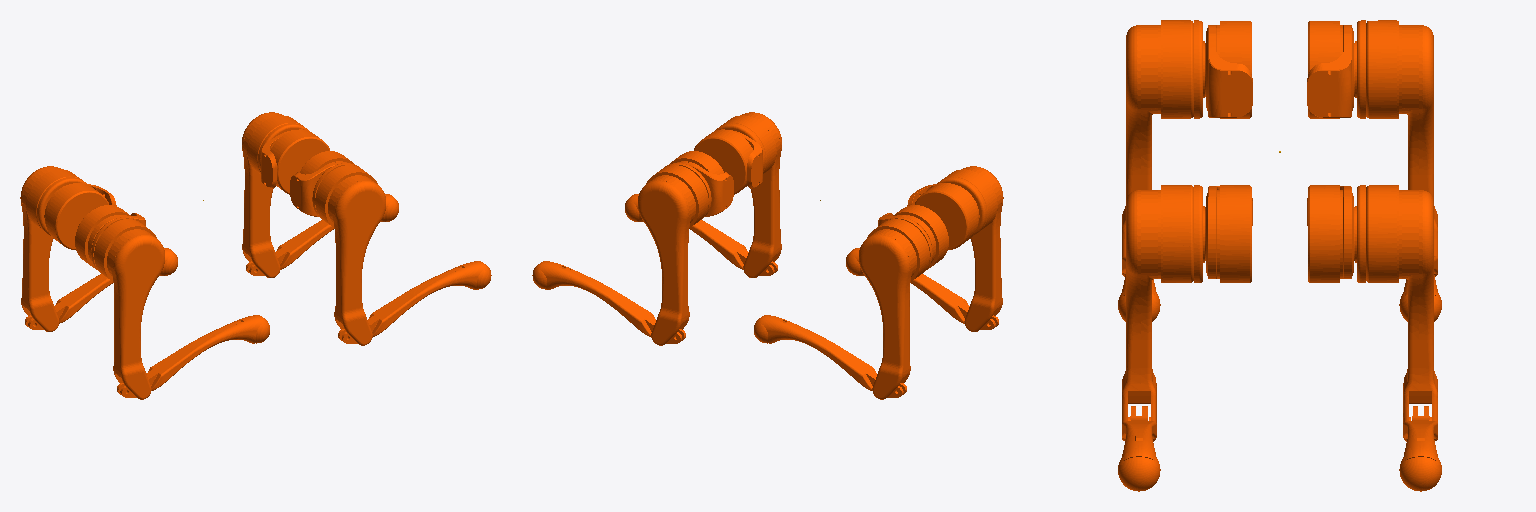
The robot description file, URDF, robot "a1_description":
<?xml version="1.0" ?>
<!-- =================================================================================== -->
<!-- |    This document was autogenerated by xacro from robot.xacro                    | -->
<!-- |    EDITING THIS FILE BY HAND IS NOT RECOMMENDED                                 | -->
<!-- =================================================================================== -->
<robot name="a1_description" xmlns:xacro="http://www.ros.org/wiki/xacro">
  <material name="black">
    <color rgba="0.0 0.0 0.0 1.0"/>
  </material>
  <material name="blue">
    <color rgba="0.0 0.0 0.8 1.0"/>
  </material>
  <material name="green">
    <color rgba="0.0 0.8 0.0 1.0"/>
  </material>
  <material name="grey">
    <color rgba="0.2 0.2 0.2 1.0"/>
  </material>
  <material name="silver">
    <color rgba="0.913725490196 0.913725490196 0.847058823529 1.0"/>
  </material>
  <material name="orange">
    <color rgba="1.0 0.423529411765 0.0392156862745 1.0"/>
  </material>
  <material name="brown">
    <color rgba="0.870588235294 0.811764705882 0.764705882353 1.0"/>
  </material>
  <material name="red">
    <color rgba="0.8 0.0 0.0 1.0"/>
  </material>
  <material name="white">
    <color rgba="1.0 1.0 1.0 1.0"/>
  </material>
  <link name="base">
    <visual>
      <origin rpy="0 0 0" xyz="0 0 0"/>
      <geometry>
        <box size="0.001 0.001 0.001"/>
      </geometry>
    </visual>
  </link>
  <joint name="floating_base" type="fixed">
    <origin rpy="0 0 0" xyz="0 0 0"/>
    <parent link="base"/>
    <child link="trunk"/>
  </joint>
  <link name="trunk">
    <visual>
      <origin rpy="0 0 0" xyz="0 0 0"/>
      <geometry>
        <mesh filename="package://a1_description/meshes/trunk.obj" scale="1 1 1"/>
      </geometry>
      <material name="orange"/>
    </visual>
    <collision>
      <origin rpy="0 0 0" xyz="0 0 0"/>
      <geometry>
        <box size="0.267 0.194 0.114"/>
      </geometry>
    </collision>
    <inertial>
      <origin rpy="0 0 0" xyz="0.012731 0.002186 0.000515"/>
      <mass value="4.713"/>
      <inertia ixx="0.01683993" ixy="8.3902e-05" ixz="0.000597679" iyy="0.056579028" iyz="2.5134e-05" izz="0.064713601"/>
    </inertial>
  </link>
  <joint name="imu_joint" type="fixed">
    <parent link="trunk"/>
    <child link="imu_link"/>
    <origin rpy="0 0 0" xyz="0 0 0"/>
  </joint>
  <link name="imu_link">
    <inertial>
      <mass value="0.001"/>
      <origin rpy="0 0 0" xyz="0 0 0"/>
      <inertia ixx="0.0001" ixy="0" ixz="0" iyy="0.0001" iyz="0" izz="0.0001"/>
    </inertial>
    <visual>
      <origin rpy="0 0 0" xyz="0 0 0"/>
      <geometry>
        <box size="0.001 0.001 0.001"/>
      </geometry>
      <material name="red"/>
    </visual>
    <collision>
      <origin rpy="0 0 0" xyz="0 0 0"/>
      <geometry>
        <box size=".001 .001 .001"/>
      </geometry>
    </collision>
  </link>
  <joint name="FR_hip_joint" type="revolute">
    <origin rpy="0 0 0" xyz="0.183 -0.047 0"/>
    <parent link="trunk"/>
    <child link="FR_hip"/>
    <axis xyz="1 0 0"/>
    <dynamics damping="0" friction="0"/>
    <limit effort="20" lower="-0.802851455917" upper="0.802851455917" velocity="52.4"/>
  </joint>
  <link name="FR_hip">
    <visual>
      <origin rpy="3.14159265359 0 0" xyz="0 0 0"/>
      <geometry>
        <mesh filename="package://a1_description/meshes/hip.obj" scale="1 1 1"/>
      </geometry>
      <material name="orange"/>
    </visual>
    <collision>
      <origin rpy="1.57079632679 0 0" xyz="0 0 0"/>
      <geometry>
        <cylinder length="0.04" radius="0.046"/>
      </geometry>
    </collision>
    <inertial>
      <origin rpy="0 0 0" xyz="-0.003311 -0.000635 3.1e-05"/>
      <mass value="0.696"/>
      <inertia ixx="0.000469246" ixy="9.409e-06" ixz="-3.42e-07" iyy="0.00080749" iyz="4.66e-07" izz="0.000552929"/>
    </inertial>
  </link>
  <joint name="FR_hip_fixed" type="fixed">
    <origin rpy="0 0 0" xyz="0 -0.081 0"/>
    <parent link="FR_hip"/>
    <child link="FR_thigh_shoulder"/>
  </joint>
  <!-- this link is only for collision -->
  <link name="FR_thigh_shoulder">
    <collision>
      <origin rpy="1.57079632679 0 0" xyz="0 0 0"/>
      <geometry>
        <cylinder length="0.032" radius="0.041"/>
      </geometry>
    </collision>
  </link>
  <joint name="FR_thigh_joint" type="revolute">
    <origin rpy="0 0 0" xyz="0 -0.08505 0"/>
    <parent link="FR_hip"/>
    <child link="FR_thigh"/>
    <axis xyz="0 1 0"/>
    <dynamics damping="0" friction="0"/>
    <limit effort="55" lower="-1.0471975512" upper="4.18879020479" velocity="28.6"/>
  </joint>
  <link name="FR_thigh">
    <visual>
      <origin rpy="0 0 0" xyz="0 0 0"/>
      <geometry>
        <mesh filename="package://a1_description/meshes/thigh_mirror.obj" scale="1 1 1"/>
      </geometry>
      <material name="orange"/>
    </visual>
    <collision>
      <origin rpy="0 1.57079632679 0" xyz="0 0 -0.1"/>
      <geometry>
        <box size="0.2 0.0245 0.034"/>
      </geometry>
    </collision>
    <inertial>
      <origin rpy="0 0 0" xyz="-0.003237 0.022327 -0.027326"/>
      <mass value="1.013"/>
      <inertia ixx="0.005529065" ixy="-4.825e-06" ixz="0.000343869" iyy="0.005139339" iyz="-2.2448e-05" izz="0.001367788"/>
    </inertial>
  </link>
  <joint name="FR_calf_joint" type="revolute">
    <origin rpy="0 0 0" xyz="0 0 -0.2"/>
    <parent link="FR_thigh"/>
    <child link="FR_calf"/>
    <axis xyz="0 1 0"/>
    <dynamics damping="0" friction="0"/>
    <limit effort="55" lower="-2.69653369433" upper="-0.916297857297" velocity="28.6"/>
  </joint>
  <link name="FR_calf">
    <visual>
      <origin rpy="0 0 0" xyz="0 0 0"/>
      <geometry>
        <mesh filename="package://a1_description/meshes/calf.obj" scale="1 1 1"/>
      </geometry>
      <material name="orange"/>
    </visual>
    <collision>
      <origin rpy="0 1.57079632679 0" xyz="0 0 -0.1"/>
      <geometry>
        <box size="0.2 0.016 0.016"/>
      </geometry>
    </collision>
    <inertial>
      <origin rpy="0 0 0" xyz="0.006435 0.0 -0.107388"/>
      <mass value="0.166"/>
      <inertia ixx="0.002997972" ixy="0.0" ixz="-0.000141163" iyy="0.003014022" iyz="0.0" izz="3.2426e-05"/>
    </inertial>
  </link>
  <joint name="FR_foot_fixed" type="fixed">
    <origin rpy="0 0 0" xyz="0 0 -0.2"/>
    <parent link="FR_calf"/>
    <child link="FR_foot"/>
  </joint>
  <link name="FR_foot">
    <visual>
      <origin rpy="0 0 0" xyz="0 0 0"/>
      <geometry>
        <sphere radius="0.01"/>
      </geometry>
      <material name="orange"/>
    </visual>
    <collision>
      <origin rpy="0 0 0" xyz="0 0 0"/>
      <geometry>
        <sphere radius="0.02"/>
      </geometry>
    </collision>
    <inertial>
      <mass value="0.06"/>
      <inertia ixx="9.6e-06" ixy="0.0" ixz="0.0" iyy="9.6e-06" iyz="0.0" izz="9.6e-06"/>
    </inertial>
  </link>
  <transmission name="FR_hip_tran">
    <type>transmission_interface/SimpleTransmission</type>
    <joint name="FR_hip_joint">
      <hardwareInterface>hardware_interface/EffortJointInterface</hardwareInterface>
    </joint>
    <actuator name="FR_hip_motor">
      <hardwareInterface>hardware_interface/EffortJointInterface</hardwareInterface>
      <mechanicalReduction>1</mechanicalReduction>
    </actuator>
  </transmission>
  <transmission name="FR_thigh_tran">
    <type>transmission_interface/SimpleTransmission</type>
    <joint name="FR_thigh_joint">
      <hardwareInterface>hardware_interface/EffortJointInterface</hardwareInterface>
    </joint>
    <actuator name="FR_thigh_motor">
      <hardwareInterface>hardware_interface/EffortJointInterface</hardwareInterface>
      <mechanicalReduction>1</mechanicalReduction>
    </actuator>
  </transmission>
  <transmission name="FR_calf_tran">
    <type>transmission_interface/SimpleTransmission</type>
    <joint name="FR_calf_joint">
      <hardwareInterface>hardware_interface/EffortJointInterface</hardwareInterface>
    </joint>
    <actuator name="FR_calf_motor">
      <hardwareInterface>hardware_interface/EffortJointInterface</hardwareInterface>
      <mechanicalReduction>1</mechanicalReduction>
    </actuator>
  </transmission>
  <joint name="FL_hip_joint" type="revolute">
    <origin rpy="0 0 0" xyz="0.183 0.047 0"/>
    <parent link="trunk"/>
    <child link="FL_hip"/>
    <axis xyz="1 0 0"/>
    <dynamics damping="0" friction="0"/>
    <limit effort="20" lower="-0.802851455917" upper="0.802851455917" velocity="52.4"/>
  </joint>
  <link name="FL_hip">
    <visual>
      <origin rpy="0 0 0" xyz="0 0 0"/>
      <geometry>
        <mesh filename="package://a1_description/meshes/hip.obj" scale="1 1 1"/>
      </geometry>
      <material name="orange"/>
    </visual>
    <collision>
      <origin rpy="1.57079632679 0 0" xyz="0 0 0"/>
      <geometry>
        <cylinder length="0.04" radius="0.046"/>
      </geometry>
    </collision>
    <inertial>
      <origin rpy="0 0 0" xyz="-0.003311 0.000635 3.1e-05"/>
      <mass value="0.696"/>
      <inertia ixx="0.000469246" ixy="-9.409e-06" ixz="-3.42e-07" iyy="0.00080749" iyz="-4.66e-07" izz="0.000552929"/>
    </inertial>
  </link>
  <joint name="FL_hip_fixed" type="fixed">
    <origin rpy="0 0 0" xyz="0 0.081 0"/>
    <parent link="FL_hip"/>
    <child link="FL_thigh_shoulder"/>
  </joint>
  <!-- this link is only for collision -->
  <link name="FL_thigh_shoulder">
    <collision>
      <origin rpy="1.57079632679 0 0" xyz="0 0 0"/>
      <geometry>
        <cylinder length="0.032" radius="0.041"/>
      </geometry>
    </collision>
  </link>
  <joint name="FL_thigh_joint" type="revolute">
    <origin rpy="0 0 0" xyz="0 0.08505 0"/>
    <parent link="FL_hip"/>
    <child link="FL_thigh"/>
    <axis xyz="0 1 0"/>
    <dynamics damping="0" friction="0"/>
    <limit effort="55" lower="-1.0471975512" upper="4.18879020479" velocity="28.6"/>
  </joint>
  <link name="FL_thigh">
    <visual>
      <origin rpy="0 0 0" xyz="0 0 0"/>
      <geometry>
        <mesh filename="package://a1_description/meshes/thigh.obj" scale="1 1 1"/>
      </geometry>
      <material name="orange"/>
    </visual>
    <collision>
      <origin rpy="0 1.57079632679 0" xyz="0 0 -0.1"/>
      <geometry>
        <box size="0.2 0.0245 0.034"/>
      </geometry>
    </collision>
    <inertial>
      <origin rpy="0 0 0" xyz="-0.003237 -0.022327 -0.027326"/>
      <mass value="1.013"/>
      <inertia ixx="0.005529065" ixy="4.825e-06" ixz="0.000343869" iyy="0.005139339" iyz="2.2448e-05" izz="0.001367788"/>
    </inertial>
  </link>
  <joint name="FL_calf_joint" type="revolute">
    <origin rpy="0 0 0" xyz="0 0 -0.2"/>
    <parent link="FL_thigh"/>
    <child link="FL_calf"/>
    <axis xyz="0 1 0"/>
    <dynamics damping="0" friction="0"/>
    <limit effort="55" lower="-2.69653369433" upper="-0.916297857297" velocity="28.6"/>
  </joint>
  <link name="FL_calf">
    <visual>
      <origin rpy="0 0 0" xyz="0 0 0"/>
      <geometry>
        <mesh filename="package://a1_description/meshes/calf.obj" scale="1 1 1"/>
      </geometry>
      <material name="orange"/>
    </visual>
    <collision>
      <origin rpy="0 1.57079632679 0" xyz="0 0 -0.1"/>
      <geometry>
        <box size="0.2 0.016 0.016"/>
      </geometry>
    </collision>
    <inertial>
      <origin rpy="0 0 0" xyz="0.006435 0.0 -0.107388"/>
      <mass value="0.166"/>
      <inertia ixx="0.002997972" ixy="0.0" ixz="-0.000141163" iyy="0.003014022" iyz="0.0" izz="3.2426e-05"/>
    </inertial>
  </link>
  <joint name="FL_foot_fixed" type="fixed">
    <origin rpy="0 0 0" xyz="0 0 -0.2"/>
    <parent link="FL_calf"/>
    <child link="FL_foot"/>
  </joint>
  <link name="FL_foot">
    <visual>
      <origin rpy="0 0 0" xyz="0 0 0"/>
      <geometry>
        <sphere radius="0.01"/>
      </geometry>
      <material name="orange"/>
    </visual>
    <collision>
      <origin rpy="0 0 0" xyz="0 0 0"/>
      <geometry>
        <sphere radius="0.02"/>
      </geometry>
    </collision>
    <inertial>
      <mass value="0.06"/>
      <inertia ixx="9.6e-06" ixy="0.0" ixz="0.0" iyy="9.6e-06" iyz="0.0" izz="9.6e-06"/>
    </inertial>
  </link>
  <transmission name="FL_hip_tran">
    <type>transmission_interface/SimpleTransmission</type>
    <joint name="FL_hip_joint">
      <hardwareInterface>hardware_interface/EffortJointInterface</hardwareInterface>
    </joint>
    <actuator name="FL_hip_motor">
      <hardwareInterface>hardware_interface/EffortJointInterface</hardwareInterface>
      <mechanicalReduction>1</mechanicalReduction>
    </actuator>
  </transmission>
  <transmission name="FL_thigh_tran">
    <type>transmission_interface/SimpleTransmission</type>
    <joint name="FL_thigh_joint">
      <hardwareInterface>hardware_interface/EffortJointInterface</hardwareInterface>
    </joint>
    <actuator name="FL_thigh_motor">
      <hardwareInterface>hardware_interface/EffortJointInterface</hardwareInterface>
      <mechanicalReduction>1</mechanicalReduction>
    </actuator>
  </transmission>
  <transmission name="FL_calf_tran">
    <type>transmission_interface/SimpleTransmission</type>
    <joint name="FL_calf_joint">
      <hardwareInterface>hardware_interface/EffortJointInterface</hardwareInterface>
    </joint>
    <actuator name="FL_calf_motor">
      <hardwareInterface>hardware_interface/EffortJointInterface</hardwareInterface>
      <mechanicalReduction>1</mechanicalReduction>
    </actuator>
  </transmission>
  <joint name="RR_hip_joint" type="revolute">
    <origin rpy="0 0 0" xyz="-0.183 -0.047 0"/>
    <parent link="trunk"/>
    <child link="RR_hip"/>
    <axis xyz="1 0 0"/>
    <dynamics damping="0" friction="0"/>
    <limit effort="20" lower="-0.802851455917" upper="0.802851455917" velocity="52.4"/>
  </joint>
  <link name="RR_hip">
    <visual>
      <origin rpy="3.14159265359 3.14159265359 0" xyz="0 0 0"/>
      <geometry>
        <mesh filename="package://a1_description/meshes/hip.obj" scale="1 1 1"/>
      </geometry>
      <material name="orange"/>
    </visual>
    <collision>
      <origin rpy="1.57079632679 0 0" xyz="0 0 0"/>
      <geometry>
        <cylinder length="0.04" radius="0.046"/>
      </geometry>
    </collision>
    <inertial>
      <origin rpy="0 0 0" xyz="0.003311 -0.000635 3.1e-05"/>
      <mass value="0.696"/>
      <inertia ixx="0.000469246" ixy="-9.409e-06" ixz="3.42e-07" iyy="0.00080749" iyz="4.66e-07" izz="0.000552929"/>
    </inertial>
  </link>
  <joint name="RR_hip_fixed" type="fixed">
    <origin rpy="0 0 0" xyz="0 -0.081 0"/>
    <parent link="RR_hip"/>
    <child link="RR_thigh_shoulder"/>
  </joint>
  <!-- this link is only for collision -->
  <link name="RR_thigh_shoulder">
    <collision>
      <origin rpy="1.57079632679 0 0" xyz="0 0 0"/>
      <geometry>
        <cylinder length="0.032" radius="0.041"/>
      </geometry>
    </collision>
  </link>
  <joint name="RR_thigh_joint" type="revolute">
    <origin rpy="0 0 0" xyz="0 -0.08505 0"/>
    <parent link="RR_hip"/>
    <child link="RR_thigh"/>
    <axis xyz="0 1 0"/>
    <dynamics damping="0" friction="0"/>
    <limit effort="55" lower="-1.0471975512" upper="4.18879020479" velocity="28.6"/>
  </joint>
  <link name="RR_thigh">
    <visual>
      <origin rpy="0 0 0" xyz="0 0 0"/>
      <geometry>
        <mesh filename="package://a1_description/meshes/thigh_mirror.obj" scale="1 1 1"/>
      </geometry>
      <material name="orange"/>
    </visual>
    <collision>
      <origin rpy="0 1.57079632679 0" xyz="0 0 -0.1"/>
      <geometry>
        <box size="0.2 0.0245 0.034"/>
      </geometry>
    </collision>
    <inertial>
      <origin rpy="0 0 0" xyz="-0.003237 0.022327 -0.027326"/>
      <mass value="1.013"/>
      <inertia ixx="0.005529065" ixy="-4.825e-06" ixz="0.000343869" iyy="0.005139339" iyz="-2.2448e-05" izz="0.001367788"/>
    </inertial>
  </link>
  <joint name="RR_calf_joint" type="revolute">
    <origin rpy="0 0 0" xyz="0 0 -0.2"/>
    <parent link="RR_thigh"/>
    <child link="RR_calf"/>
    <axis xyz="0 1 0"/>
    <dynamics damping="0" friction="0"/>
    <limit effort="55" lower="-2.69653369433" upper="-0.916297857297" velocity="28.6"/>
  </joint>
  <link name="RR_calf">
    <visual>
      <origin rpy="0 0 0" xyz="0 0 0"/>
      <geometry>
        <mesh filename="package://a1_description/meshes/calf.obj" scale="1 1 1"/>
      </geometry>
      <material name="orange"/>
    </visual>
    <collision>
      <origin rpy="0 1.57079632679 0" xyz="0 0 -0.1"/>
      <geometry>
        <box size="0.2 0.016 0.016"/>
      </geometry>
    </collision>
    <inertial>
      <origin rpy="0 0 0" xyz="0.006435 0.0 -0.107388"/>
      <mass value="0.166"/>
      <inertia ixx="0.002997972" ixy="0.0" ixz="-0.000141163" iyy="0.003014022" iyz="0.0" izz="3.2426e-05"/>
    </inertial>
  </link>
  <joint name="RR_foot_fixed" type="fixed">
    <origin rpy="0 0 0" xyz="0 0 -0.2"/>
    <parent link="RR_calf"/>
    <child link="RR_foot"/>
  </joint>
  <link name="RR_foot">
    <visual>
      <origin rpy="0 0 0" xyz="0 0 0"/>
      <geometry>
        <sphere radius="0.01"/>
      </geometry>
      <material name="orange"/>
    </visual>
    <collision>
      <origin rpy="0 0 0" xyz="0 0 0"/>
      <geometry>
        <sphere radius="0.02"/>
      </geometry>
    </collision>
    <inertial>
      <mass value="0.06"/>
      <inertia ixx="9.6e-06" ixy="0.0" ixz="0.0" iyy="9.6e-06" iyz="0.0" izz="9.6e-06"/>
    </inertial>
  </link>
  <transmission name="RR_hip_tran">
    <type>transmission_interface/SimpleTransmission</type>
    <joint name="RR_hip_joint">
      <hardwareInterface>hardware_interface/EffortJointInterface</hardwareInterface>
    </joint>
    <actuator name="RR_hip_motor">
      <hardwareInterface>hardware_interface/EffortJointInterface</hardwareInterface>
      <mechanicalReduction>1</mechanicalReduction>
    </actuator>
  </transmission>
  <transmission name="RR_thigh_tran">
    <type>transmission_interface/SimpleTransmission</type>
    <joint name="RR_thigh_joint">
      <hardwareInterface>hardware_interface/EffortJointInterface</hardwareInterface>
    </joint>
    <actuator name="RR_thigh_motor">
      <hardwareInterface>hardware_interface/EffortJointInterface</hardwareInterface>
      <mechanicalReduction>1</mechanicalReduction>
    </actuator>
  </transmission>
  <transmission name="RR_calf_tran">
    <type>transmission_interface/SimpleTransmission</type>
    <joint name="RR_calf_joint">
      <hardwareInterface>hardware_interface/EffortJointInterface</hardwareInterface>
    </joint>
    <actuator name="RR_calf_motor">
      <hardwareInterface>hardware_interface/EffortJointInterface</hardwareInterface>
      <mechanicalReduction>1</mechanicalReduction>
    </actuator>
  </transmission>
  <joint name="RL_hip_joint" type="revolute">
    <origin rpy="0 0 0" xyz="-0.183 0.047 0"/>
    <parent link="trunk"/>
    <child link="RL_hip"/>
    <axis xyz="1 0 0"/>
    <dynamics damping="0" friction="0"/>
    <limit effort="20" lower="-0.802851455917" upper="0.802851455917" velocity="52.4"/>
  </joint>
  <link name="RL_hip">
    <visual>
      <origin rpy="0 3.14159265359 0" xyz="0 0 0"/>
      <geometry>
        <mesh filename="package://a1_description/meshes/hip.obj" scale="1 1 1"/>
      </geometry>
      <material name="orange"/>
    </visual>
    <collision>
      <origin rpy="1.57079632679 0 0" xyz="0 0 0"/>
      <geometry>
        <cylinder length="0.04" radius="0.046"/>
      </geometry>
    </collision>
    <inertial>
      <origin rpy="0 0 0" xyz="0.003311 0.000635 3.1e-05"/>
      <mass value="0.696"/>
      <inertia ixx="0.000469246" ixy="9.409e-06" ixz="3.42e-07" iyy="0.00080749" iyz="-4.66e-07" izz="0.000552929"/>
    </inertial>
  </link>
  <joint name="RL_hip_fixed" type="fixed">
    <origin rpy="0 0 0" xyz="0 0.081 0"/>
    <parent link="RL_hip"/>
    <child link="RL_thigh_shoulder"/>
  </joint>
  <!-- this link is only for collision -->
  <link name="RL_thigh_shoulder">
    <collision>
      <origin rpy="1.57079632679 0 0" xyz="0 0 0"/>
      <geometry>
        <cylinder length="0.032" radius="0.041"/>
      </geometry>
    </collision>
  </link>
  <joint name="RL_thigh_joint" type="revolute">
    <origin rpy="0 0 0" xyz="0 0.08505 0"/>
    <parent link="RL_hip"/>
    <child link="RL_thigh"/>
    <axis xyz="0 1 0"/>
    <dynamics damping="0" friction="0"/>
    <limit effort="55" lower="-1.0471975512" upper="4.18879020479" velocity="28.6"/>
  </joint>
  <link name="RL_thigh">
    <visual>
      <origin rpy="0 0 0" xyz="0 0 0"/>
      <geometry>
        <mesh filename="package://a1_description/meshes/thigh.obj" scale="1 1 1"/>
      </geometry>
      <material name="orange"/>
    </visual>
    <collision>
      <origin rpy="0 1.57079632679 0" xyz="0 0 -0.1"/>
      <geometry>
        <box size="0.2 0.0245 0.034"/>
      </geometry>
    </collision>
    <inertial>
      <origin rpy="0 0 0" xyz="-0.003237 -0.022327 -0.027326"/>
      <mass value="1.013"/>
      <inertia ixx="0.005529065" ixy="4.825e-06" ixz="0.000343869" iyy="0.005139339" iyz="2.2448e-05" izz="0.001367788"/>
    </inertial>
  </link>
  <joint name="RL_calf_joint" type="revolute">
    <origin rpy="0 0 0" xyz="0 0 -0.2"/>
    <parent link="RL_thigh"/>
    <child link="RL_calf"/>
    <axis xyz="0 1 0"/>
    <dynamics damping="0" friction="0"/>
    <limit effort="55" lower="-2.69653369433" upper="-0.916297857297" velocity="28.6"/>
  </joint>
  <link name="RL_calf">
    <visual>
      <origin rpy="0 0 0" xyz="0 0 0"/>
      <geometry>
        <mesh filename="package://a1_description/meshes/calf.obj" scale="1 1 1"/>
      </geometry>
      <material name="orange"/>
    </visual>
    <collision>
      <origin rpy="0 1.57079632679 0" xyz="0 0 -0.1"/>
      <geometry>
        <box size="0.2 0.016 0.016"/>
      </geometry>
    </collision>
    <inertial>
      <origin rpy="0 0 0" xyz="0.006435 0.0 -0.107388"/>
      <mass value="0.166"/>
      <inertia ixx="0.002997972" ixy="0.0" ixz="-0.000141163" iyy="0.003014022" iyz="0.0" izz="3.2426e-05"/>
    </inertial>
  </link>
  <joint name="RL_foot_fixed" type="fixed">
    <origin rpy="0 0 0" xyz="0 0 -0.2"/>
    <parent link="RL_calf"/>
    <child link="RL_foot"/>
  </joint>
  <link name="RL_foot">
    <visual>
      <origin rpy="0 0 0" xyz="0 0 0"/>
      <geometry>
        <sphere radius="0.01"/>
      </geometry>
      <material name="orange"/>
    </visual>
    <collision>
      <origin rpy="0 0 0" xyz="0 0 0"/>
      <geometry>
        <sphere radius="0.02"/>
      </geometry>
    </collision>
    <inertial>
      <mass value="0.06"/>
      <inertia ixx="9.6e-06" ixy="0.0" ixz="0.0" iyy="9.6e-06" iyz="0.0" izz="9.6e-06"/>
    </inertial>
  </link>
  <transmission name="RL_hip_tran">
    <type>transmission_interface/SimpleTransmission</type>
    <joint name="RL_hip_joint">
      <hardwareInterface>hardware_interface/EffortJointInterface</hardwareInterface>
    </joint>
    <actuator name="RL_hip_motor">
      <hardwareInterface>hardware_interface/EffortJointInterface</hardwareInterface>
      <mechanicalReduction>1</mechanicalReduction>
    </actuator>
  </transmission>
  <transmission name="RL_thigh_tran">
    <type>transmission_interface/SimpleTransmission</type>
    <joint name="RL_thigh_joint">
      <hardwareInterface>hardware_interface/EffortJointInterface</hardwareInterface>
    </joint>
    <actuator name="RL_thigh_motor">
      <hardwareInterface>hardware_interface/EffortJointInterface</hardwareInterface>
      <mechanicalReduction>1</mechanicalReduction>
    </actuator>
  </transmission>
  <transmission name="RL_calf_tran">
    <type>transmission_interface/SimpleTransmission</type>
    <joint name="RL_calf_joint">
      <hardwareInterface>hardware_interface/EffortJointInterface</hardwareInterface>
    </joint>
    <actuator name="RL_calf_motor">
      <hardwareInterface>hardware_interface/EffortJointInterface</hardwareInterface>
      <mechanicalReduction>1</mechanicalReduction>
    </actuator>
  </transmission>
</robot>

--- Render facts (derived) ---
3 views of the same robot in one strip: view 1: azimuth 30°, elevation 25°; view 2: azimuth 150°, elevation 25°; view 3: azimuth 270°, elevation 25° (orthographic).
Robot: a1_description — 23 links, 22 joints (12 revolute, 10 fixed); root link base; default pose: joints at zero except 4 at the middle of their limits (FR_calf_joint = -1.81, FL_calf_joint = -1.81, RR_calf_joint = -1.81, RL_calf_joint = -1.81).
Links seen in each view (by area): view 1: RR_thigh, FR_thigh, RL_thigh, FL_thigh, FR_calf, RR_calf, FL_hip, RL_hip, FR_hip, FL_calf, RL_calf, RR_hip; view 2: RL_thigh, FL_thigh, RR_thigh, FR_thigh, FL_calf, RL_calf, FR_hip, RR_hip, FL_hip, FR_calf, RR_calf, RL_hip; view 3: FR_thigh, FL_thigh, RR_thigh, RL_thigh, FR_hip, FL_hip, RR_hip, RL_hip, FR_calf, FL_calf, RL_calf, RR_calf.
Link boxes in pixels (x1,y1,x2,y2): RR_thigh: (91, 217, 164, 399); FR_thigh: (312, 163, 385, 345); RL_thigh: (20, 166, 86, 331); FL_thigh: (242, 112, 308, 277); FR_calf: (338, 261, 491, 343); RR_calf: (117, 315, 269, 397); FL_hip: (261, 129, 329, 194); RL_hip: (44, 183, 116, 249); FR_hip: (290, 151, 353, 216); FL_calf: (246, 194, 398, 275); RL_calf: (25, 248, 177, 329); RR_hip: (75, 205, 145, 269); RL_thigh: (859, 217, 932, 399); FL_thigh: (638, 163, 711, 345); RR_thigh: (937, 166, 1003, 331); FR_thigh: (715, 112, 781, 277); FL_calf: (532, 261, 685, 343); RL_calf: (754, 315, 906, 397); FR_hip: (694, 129, 762, 194); RR_hip: (907, 183, 979, 249); FL_hip: (670, 151, 733, 216); FR_calf: (625, 194, 777, 275); RR_calf: (846, 248, 998, 329); RL_hip: (878, 205, 948, 269); FR_thigh: (1122, 185, 1204, 441); FL_thigh: (1355, 185, 1437, 441); RR_thigh: (1122, 20, 1204, 276); RL_thigh: (1355, 20, 1437, 276); FR_hip: (1205, 185, 1252, 282); FL_hip: (1307, 185, 1354, 282); RR_hip: (1205, 21, 1252, 118); RL_hip: (1307, 21, 1354, 118); FR_calf: (1118, 406, 1160, 491); FL_calf: (1399, 406, 1441, 491); RL_calf: (1399, 256, 1441, 321); RR_calf: (1118, 256, 1160, 321).
Size in the robot's own frame: 0.6265 by 0.3041 by 0.2595 metres.
Meshes: 5 distinct files referenced, 12 mesh visuals loaded (4 OBJ); not drawn: 1 (reference not matched to a file when rendering).